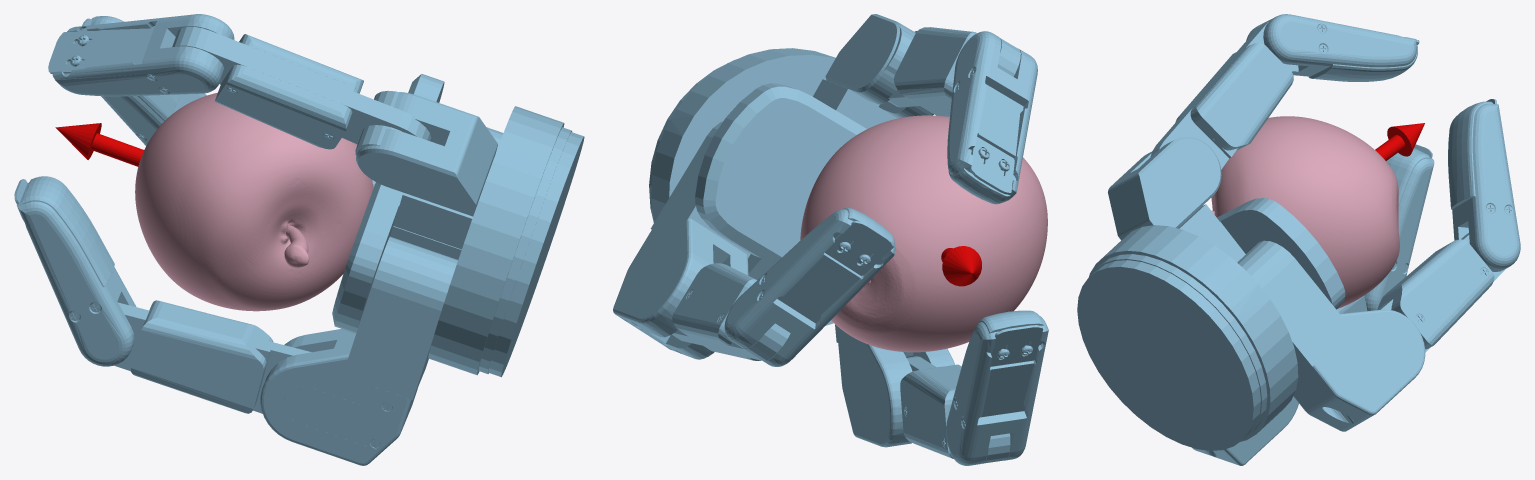
3 renders of one model, left to right at view 1: azimuth 30°, elevation 25°; view 2: azimuth 150°, elevation 25°; view 3: azimuth 270°, elevation 25°, orthographic. The views are drawn at different scales.
Parts seen in each view (by area): view 1: world, apple.stl; view 2: world, apple.stl; view 3: world, apple.stl.
Part boxes in pixels (bbox=[...]): world: bbox=[14, 14, 584, 465]; apple.stl: bbox=[135, 92, 373, 311]; world: bbox=[613, 14, 1048, 465]; apple.stl: bbox=[800, 115, 1047, 352]; world: bbox=[1077, 14, 1520, 465]; apple.stl: bbox=[1211, 116, 1399, 308].
Size of the model in its own units: 0.1801 by 0.1622 by 0.1684.
